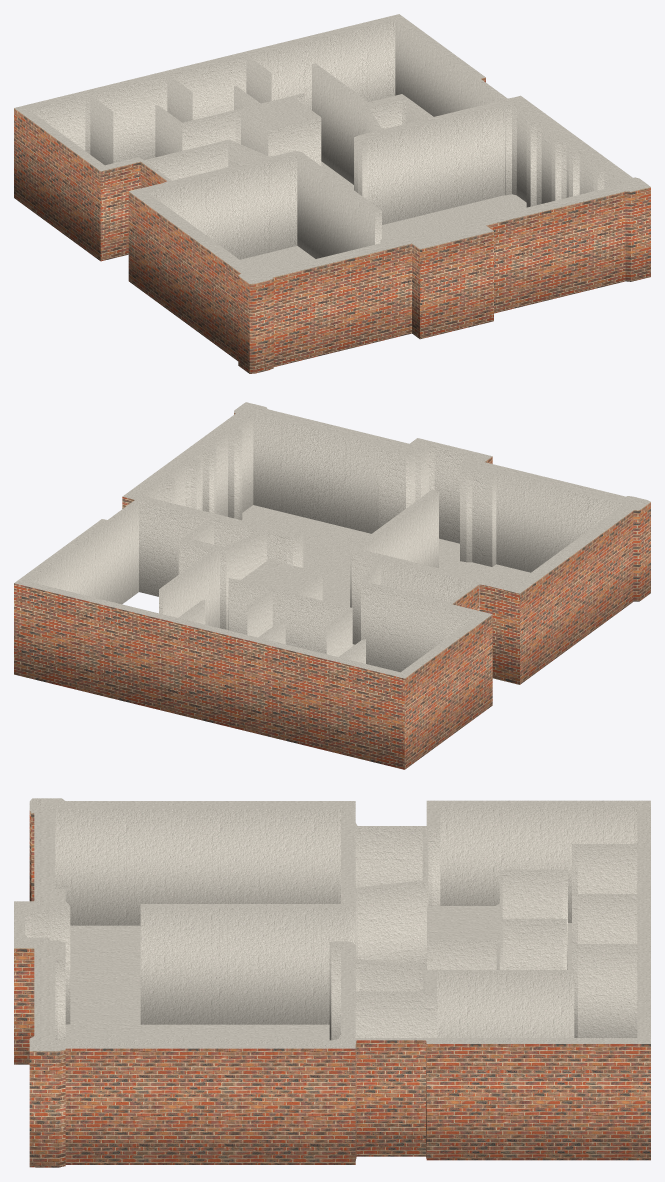
The model's file is FirstFloor.gltf.
3 views of the same model, one above another, from view 1: azimuth 30°, elevation 25°; view 2: azimuth 150°, elevation 25°; view 3: azimuth 270°, elevation 25° (orthographic). The views are drawn at different scales.
Parts seen in each view (by area): view 1: FirstFloor, FirstFloorGround; view 2: FirstFloor, FirstFloorGround; view 3: FirstFloor, FirstFloorGround.
Part boxes in pixels (x1,y1,x2,y2): FirstFloor: (14, 14, 650, 373); FirstFloorGround: (240, 161, 526, 272); FirstFloor: (14, 402, 650, 769); FirstFloorGround: (242, 505, 530, 646); FirstFloor: (14, 798, 650, 1167); FirstFloorGround: (65, 923, 571, 1040).
Bounding box in the file's own units: 15.14 × 3.25 × 16.13.
2 materials, 2 textured.
